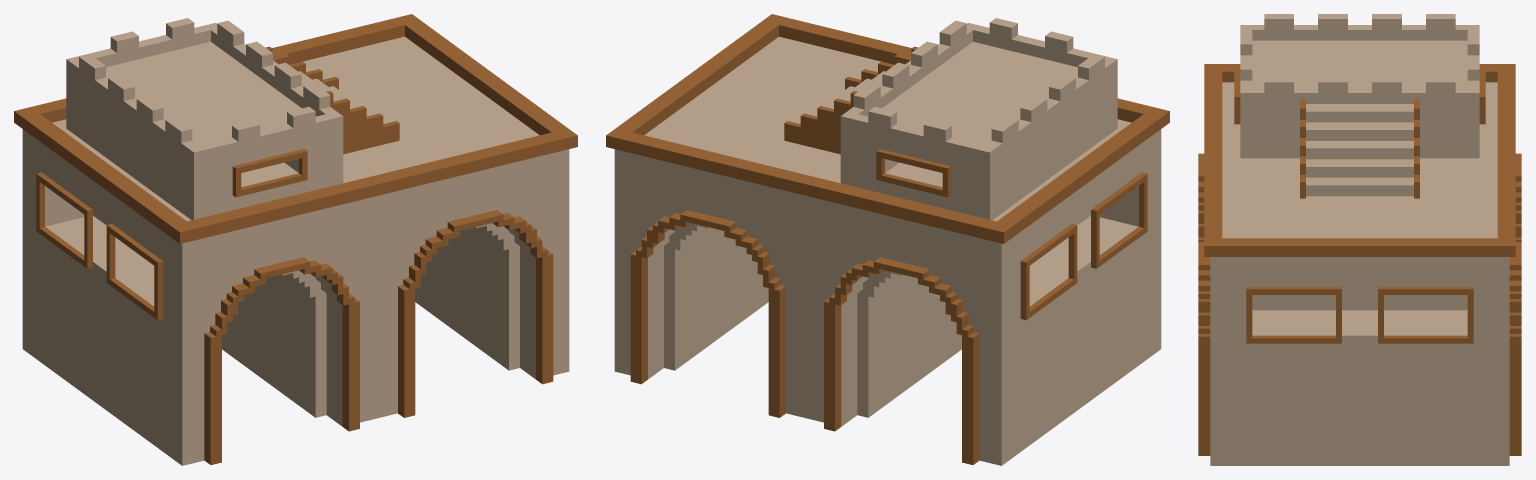
File: Background_B_house_03.FBX
3 renders of one model, left to right at view 1: azimuth 30°, elevation 25°; view 2: azimuth 150°, elevation 25°; view 3: azimuth 270°, elevation 25°, orthographic. The views are drawn at different scales.
Parts seen in each view (by area): view 1: untitled-10; view 2: untitled-10; view 3: untitled-10.
Boxes of the visible parts, x1=… form: untitled-10: x1=14, y1=14, x2=577, y2=465; untitled-10: x1=606, y1=14, x2=1169, y2=465; untitled-10: x1=1198, y1=14, x2=1521, y2=465.
Size of the model in its own units: 7.2 by 5.3 by 5.4.
Materials: 1 (1 with a texture image).
